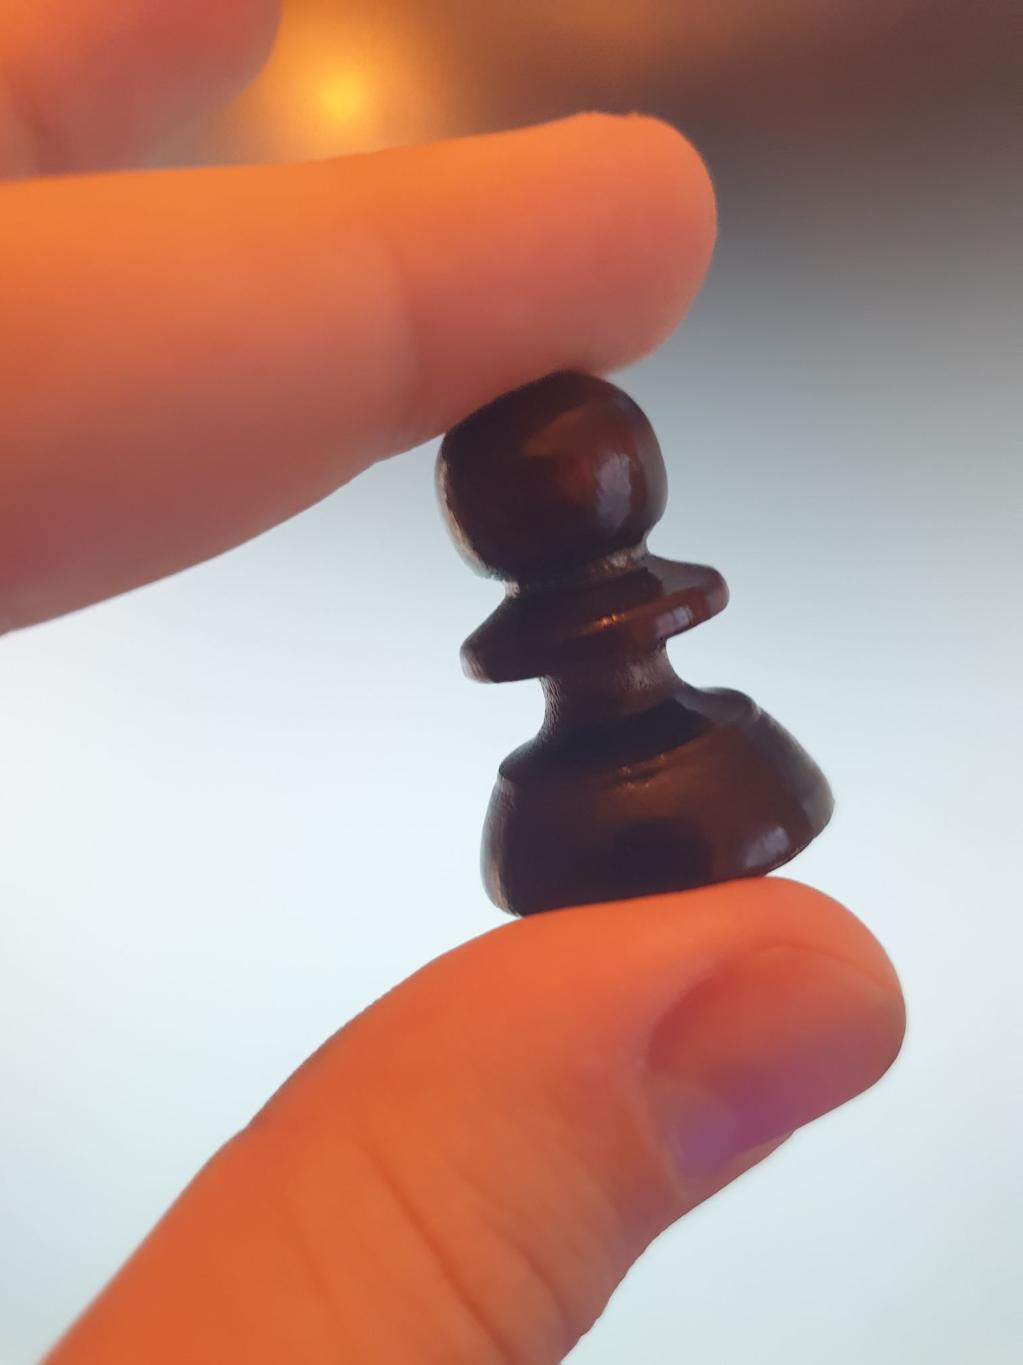bpawn: (433, 372, 842, 918)
